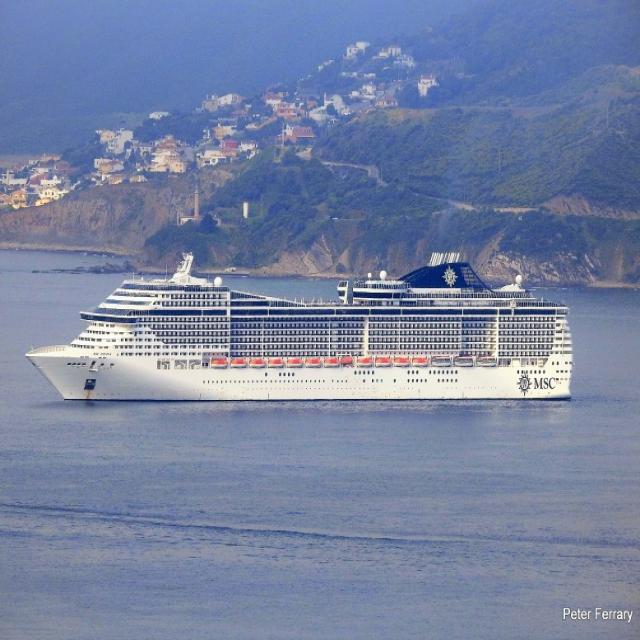cruises: (27, 242, 584, 410)
